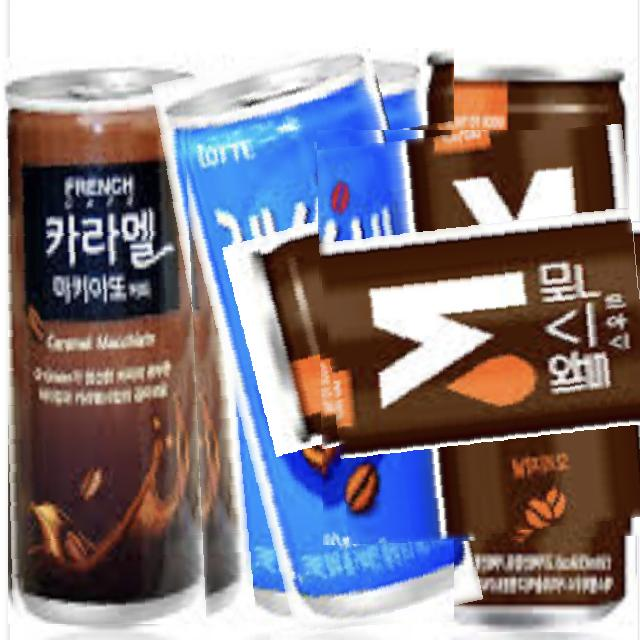recyclable: (181, 48, 454, 636), (317, 130, 640, 545), (8, 50, 223, 624)
